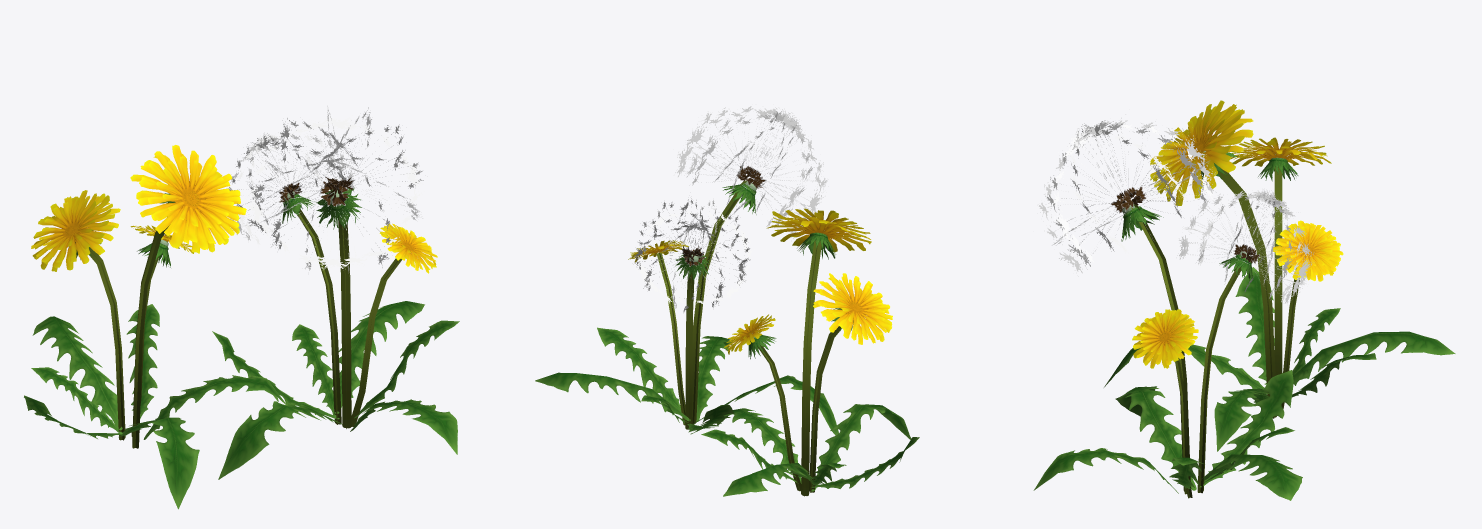
File: Pusteblume_final.fbx
The picture shows the model from 3 angles, left to right: view 1: azimuth 30°, elevation 25°; view 2: azimuth 150°, elevation 25°; view 3: azimuth 270°, elevation 25°; orthographic projection. The views are drawn at different scales.
Parts seen in each view (by area): view 1: Dandelion1_low.002, Dandelion1_low.005; view 2: Dandelion1_low.005, Dandelion1_low.002; view 3: Dandelion1_low.005, Dandelion1_low.002.
Part boxes in pixels (<box>): Dandelion1_low.002: <box>24,145,286,509</box>; Dandelion1_low.005: <box>212,106,459,479</box>; Dandelion1_low.005: <box>535,106,838,435</box>; Dandelion1_low.002: <box>701,208,919,496</box>; Dandelion1_low.005: <box>1033,114,1314,500</box>; Dandelion1_low.002: <box>1104,100,1455,451</box>.
Size of the model in its own units: 146 by 146 by 149.
